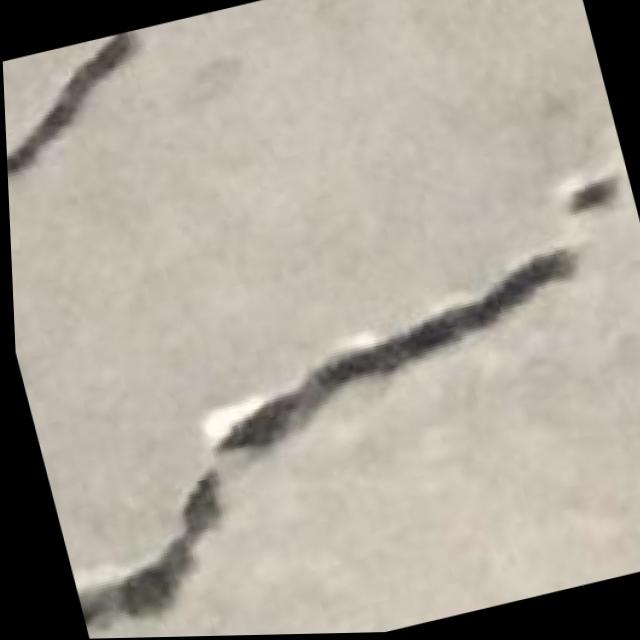Crack: (5, 145, 640, 640)
